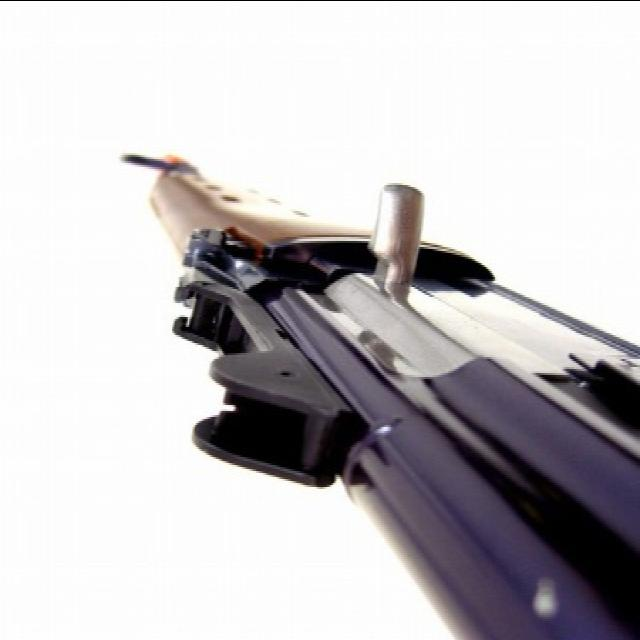rifle: (112, 145, 640, 639)
